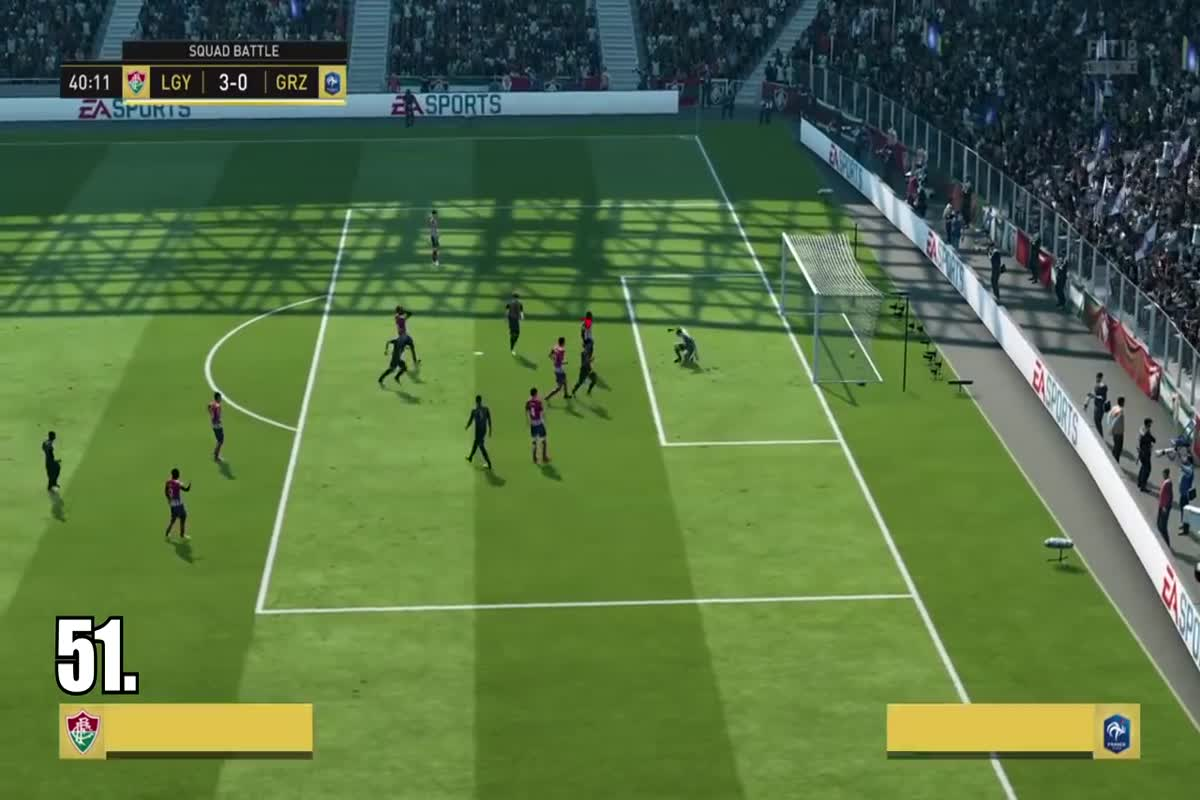ball: (843, 347, 863, 362)
